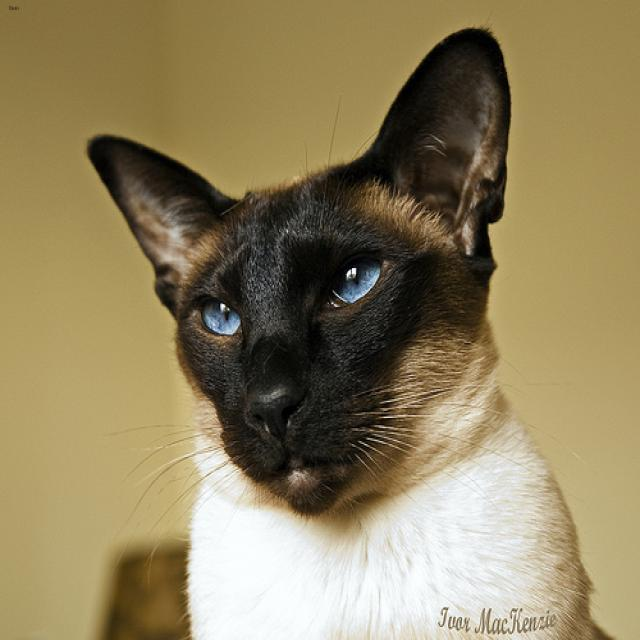Siamese: (86, 26, 509, 513)
